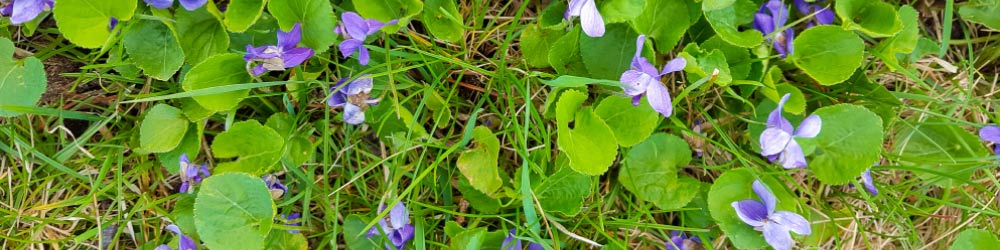violet: (605, 43, 699, 119), (732, 184, 820, 247), (232, 32, 316, 92), (326, 10, 396, 67), (762, 104, 820, 162), (320, 75, 385, 123)
